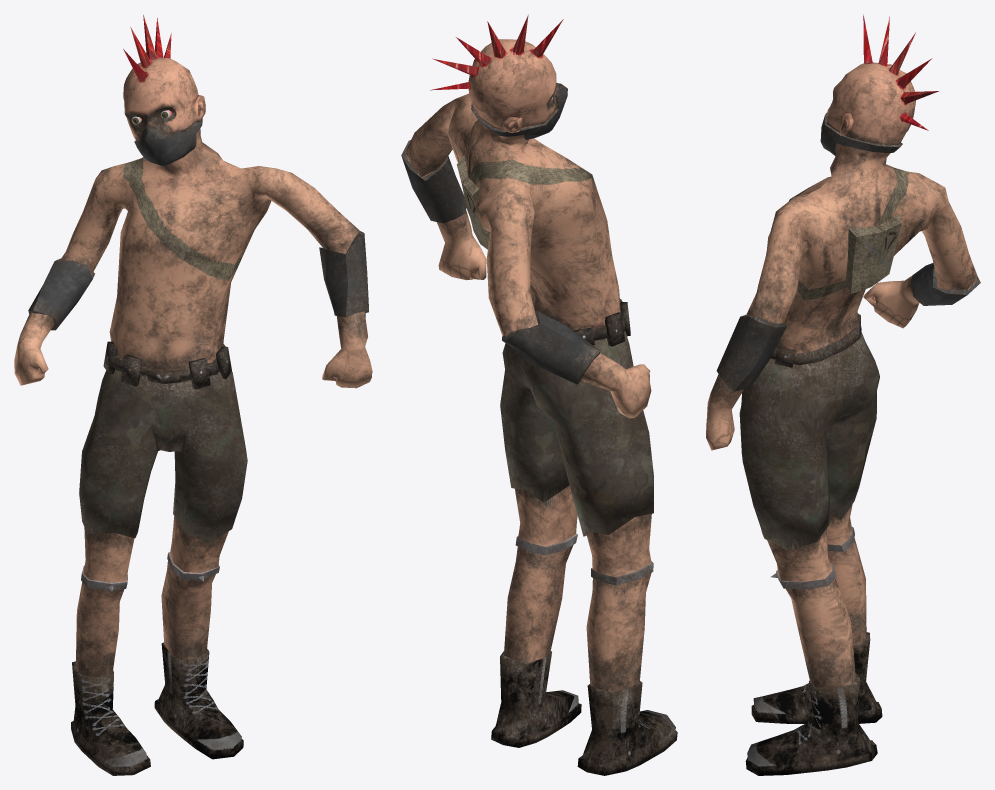
File: Anim_recibirdanyo_1_npc2.0016.obj
3 renders of one model, left to right at view 1: azimuth 30°, elevation 25°; view 2: azimuth 150°, elevation 25°; view 3: azimuth 270°, elevation 25°, orthographic. The views are drawn at different scales.
Parts seen in each view (by area): view 1: polySurface1; view 2: polySurface1; view 3: polySurface1.
Part boxes in pixels (x1=…): polySurface1: x1=14, y1=15, x2=372, y2=775; polySurface1: x1=401, y1=14, x2=677, y2=775; polySurface1: x1=706, y1=14, x2=980, y2=775.
Bounding box in the file's own units: 4.22 × 9.94 × 3.37.
